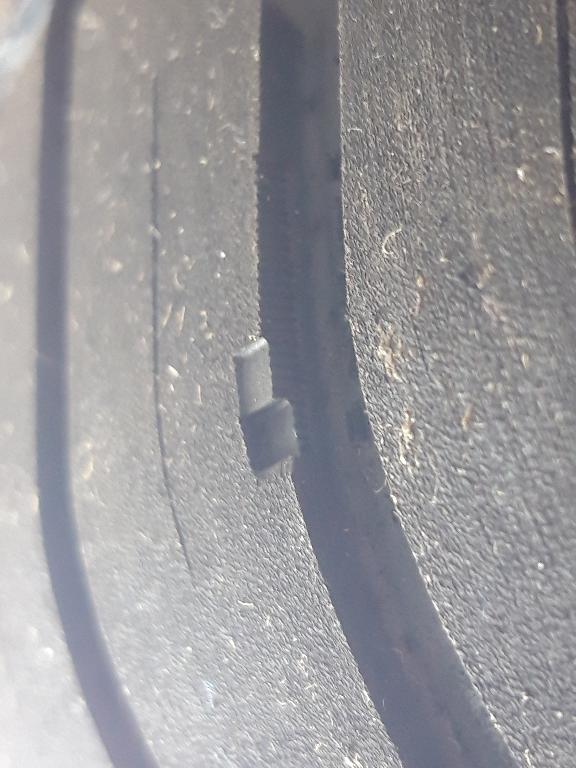temoin:25: (224, 330, 330, 486)
